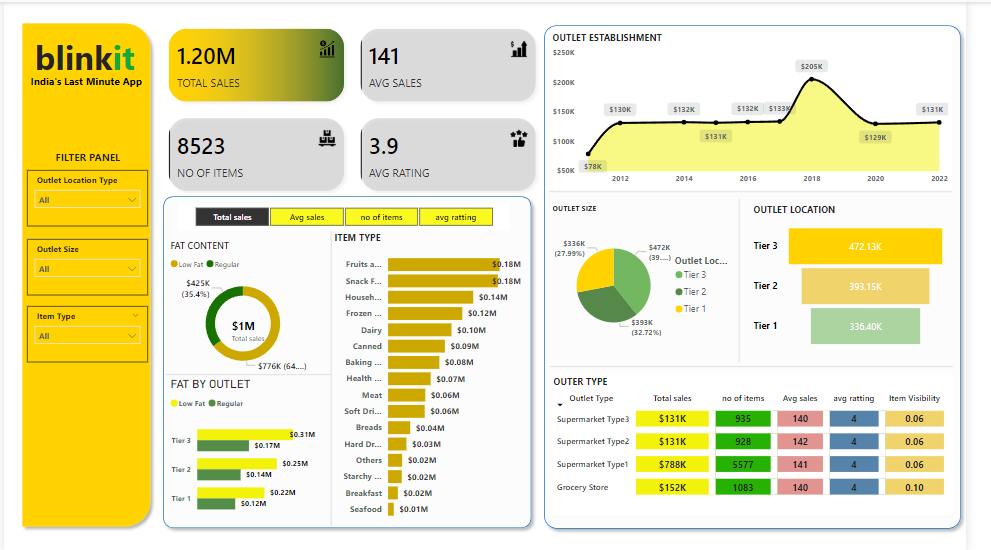

This screenshot's page, from the dashboard's own definition file:
{"tool":"powerbi","page":{"name":"Page 1","canvas":[1400,800],"ordinal":0},"visuals":[{"type":"shape","box":[17.6,22.4,204.8,750.4],"z":0},{"type":"textbox","box":[270.5,24,205,750],"z":1000},{"type":"textbox","box":[33.6,41.6,168,76.8],"z":2000},{"type":"textbox","box":[33.6,100.8,188.8,59.2],"z":3000},{"type":"cardVisual","fields":{"Data":["Sum(BlinkIT Grocery Data.Sales)","BlinkIT Grocery Data.Avg sales","BlinkIT Grocery Data.no of items","BlinkIT Grocery Data.avg ratting"]},"box":[222.4,22.4,569.6,270.4],"z":4000},{"type":"shape","box":[222.4,273.6,553.6,500.8],"z":5000},{"type":"donutChart","title":"FAT CONTENT","fields":{"Y":["BlinkIT Grocery Data.Total sales"],"Category":["BlinkIT Grocery Data.Item Fat Content"]},"box":[236.8,344,220.8,201.6],"z":6000},{"type":"slicer","fields":{"Values":["Metrics.Metrics"]},"box":[252.8,292.8,481.6,40],"z":7000},{"type":"cardVisual","fields":{"Data":["BlinkIT Grocery Data.Total sales"]},"box":[313.6,443.2,92.8,70.4],"z":8000},{"type":"clusteredBarChart","title":"FAT BY OUTLET ","fields":{"Category":["BlinkIT Grocery Data.Outlet Location Type"],"Series":["BlinkIT Grocery Data.Item Fat Content"],"Y":["BlinkIT Grocery Data.Total sales"]},"box":[236.8,545.6,220.8,216],"z":9000},{"type":"shape","box":[456,332.8,38.4,428.8],"z":10000},{"type":"shape","box":[235.2,524.8,240,33.6],"z":11000},{"type":"barChart","title":"ITEM TYPE","fields":{"Y":["BlinkIT Grocery Data.Total sales"],"Category":["BlinkIT Grocery Data.Item Type"]},"box":[475.2,332.8,281.6,428.8],"z":12000},{"type":"shape","box":[776,24,624,750.4],"z":13000},{"type":"lineChart","title":" OUTLET ESTABLISHMENT ","fields":{"Y":["BlinkIT Grocery Data.Total sales"],"Category":["BlinkIT Grocery Data.Outlet Establishment Year"]},"box":[792,41.6,585.6,232],"z":14000},{"type":"shape","box":[792,259.2,585.6,33.6],"z":15000},{"type":"pieChart","title":"OUTLET SIZE ","fields":{"Y":["BlinkIT Grocery Data.Total sales"],"Category":["BlinkIT Grocery Data.Outlet Location Type"]},"box":[792,292.8,275,225],"z":16000},{"type":"shape","box":[1049.6,286.4,38.4,236.8],"z":17000},{"type":"funnel","title":"OUTLET LOCATION","fields":{"Y":["Sum(BlinkIT Grocery Data.Sales)"],"Category":["BlinkIT Grocery Data.Outlet Location Type"]},"box":[1084.8,292.8,289.6,225],"z":18000},{"type":"shape","box":[793.6,513.6,585.6,33.6],"z":19000},{"type":"pivotTable","title":"OUTER TYPE","fields":{"Rows":["BlinkIT Grocery Data.Outlet Type"],"Values":["BlinkIT Grocery Data.Total sales","BlinkIT Grocery Data.no of items","BlinkIT Grocery Data.Avg sales","BlinkIT Grocery Data.avg ratting","Avg(BlinkIT Grocery Data.Item Visibility)"]},"box":[793.6,542.4,585.6,203.2],"z":20000},{"type":"slicer","fields":{"Values":["BlinkIT Grocery Data.Outlet Location Type"]},"box":[33.6,244.8,176,81.6],"z":21000},{"type":"slicer","fields":{"Values":["BlinkIT Grocery Data.Outlet Size"]},"box":[33.6,344,176,81.6],"z":22000},{"type":"slicer","fields":{"Values":["BlinkIT Grocery Data.Item Type"]},"box":[33.6,441.6,176,81.6],"z":23000},{"type":"textbox","box":[60.8,211.2,121.6,33.6],"z":24000}]}

Visuals, with their boxes in screenshot pixels (x1, y1, x2, y2), scaled from the page's 1400x800 canvas onto the 991x550 screenshot:
shape: (12, 15, 157, 531)
textbox: (191, 16, 337, 532)
textbox: (24, 29, 143, 81)
textbox: (24, 69, 157, 110)
cardVisual - Sum(BlinkIT Grocery Data.Sales) x BlinkIT Grocery Data.Avg sales: (157, 15, 561, 201)
shape: (157, 188, 549, 532)
"FAT CONTENT" donutChart: (168, 236, 324, 375)
slicer - Metrics.Metrics: (179, 201, 520, 229)
cardVisual - BlinkIT Grocery Data.Total sales: (222, 305, 288, 353)
"FAT BY OUTLET " clusteredBarChart: (168, 375, 324, 524)
shape: (323, 229, 350, 524)
shape: (166, 361, 336, 384)
"ITEM TYPE" barChart: (336, 229, 536, 524)
shape: (549, 16, 990, 532)
" OUTLET ESTABLISHMENT " lineChart: (561, 29, 975, 188)
shape: (561, 178, 975, 201)
"OUTLET SIZE " pieChart: (561, 201, 755, 356)
shape: (743, 197, 770, 360)
"OUTLET LOCATION" funnel: (768, 201, 973, 356)
shape: (562, 353, 976, 376)
"OUTER TYPE" pivotTable: (562, 373, 976, 513)
slicer - BlinkIT Grocery Data.Outlet Location Type: (24, 168, 148, 224)
slicer - BlinkIT Grocery Data.Outlet Size: (24, 236, 148, 293)
slicer - BlinkIT Grocery Data.Item Type: (24, 304, 148, 360)
textbox: (43, 145, 129, 168)
